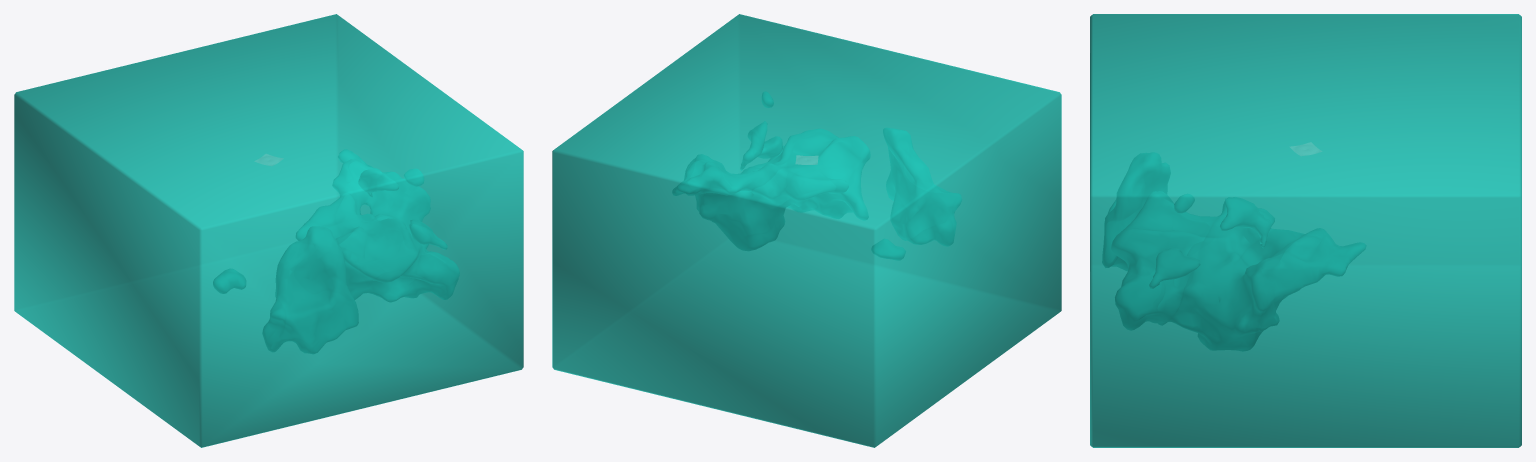
The picture shows the model from 3 angles, left to right: view 1: azimuth 30°, elevation 25°; view 2: azimuth 150°, elevation 25°; view 3: azimuth 270°, elevation 25°; orthographic projection. The views are drawn at different scales.
Visible parts, largest first — view 1: Liquid_Domain; view 2: Liquid_Domain; view 3: Liquid_Domain.
Boxes of the visible parts, bbox=[...] form: Liquid_Domain: bbox=[14, 14, 523, 447]; Liquid_Domain: bbox=[552, 14, 1061, 447]; Liquid_Domain: bbox=[1090, 14, 1521, 447].
Size of the model in its own units: 391 by 254 by 391.
